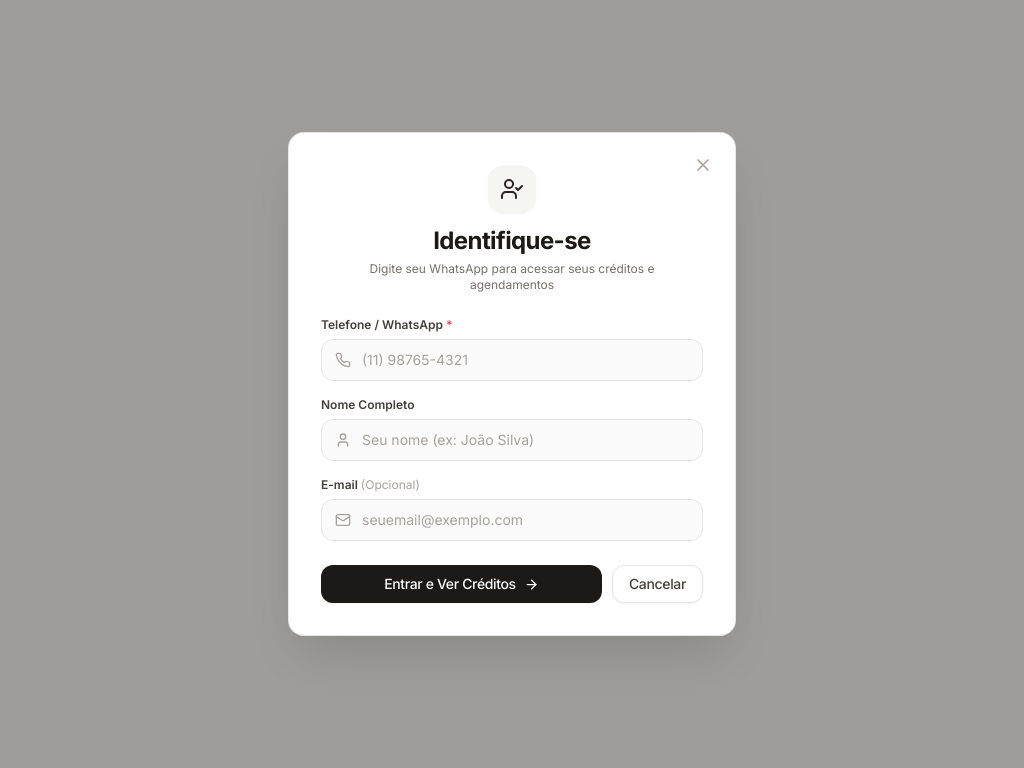
Test case: CustomerLoginModal Component › formats Brazilian phone numbers as the user types (e.g. 11987654321)
The width and height of the screenshot is (1024, 768).
Note: Type raw digits
Type "11987654321" into the field labelled "Telefone / WhatsApp *" at (512, 360), box x1=321 y1=339 x2=703 y2=381
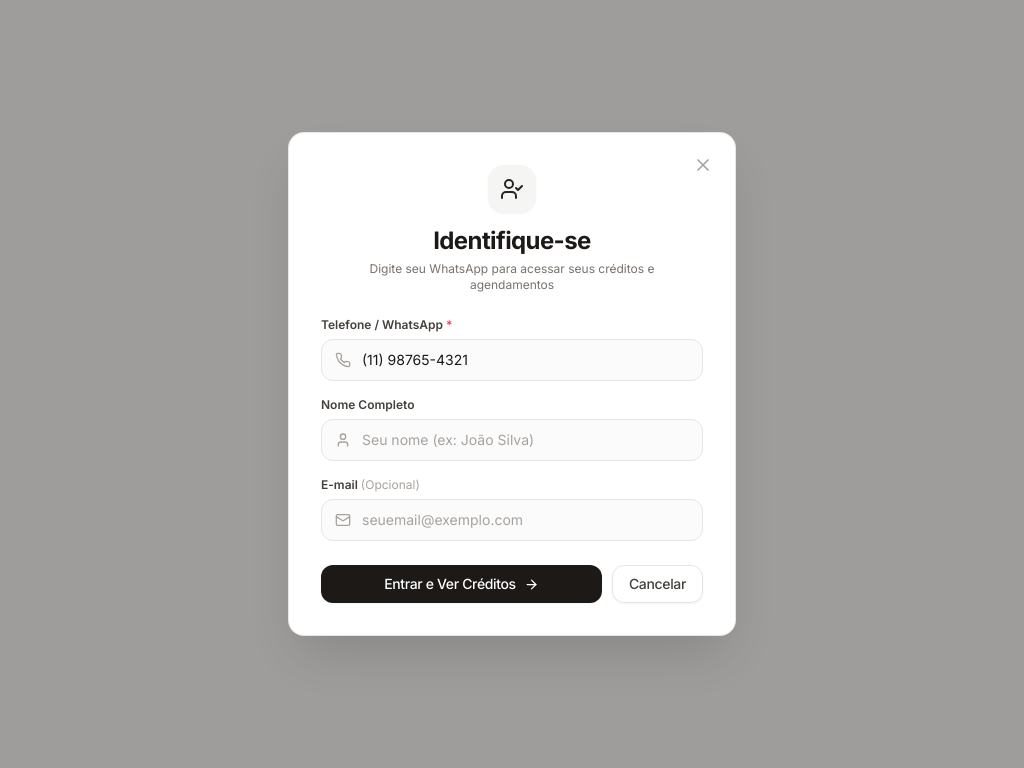
Check: the field labelled "Telefone / WhatsApp *" holds "(11) 98765-4321", box x1=321 y1=339 x2=703 y2=381
